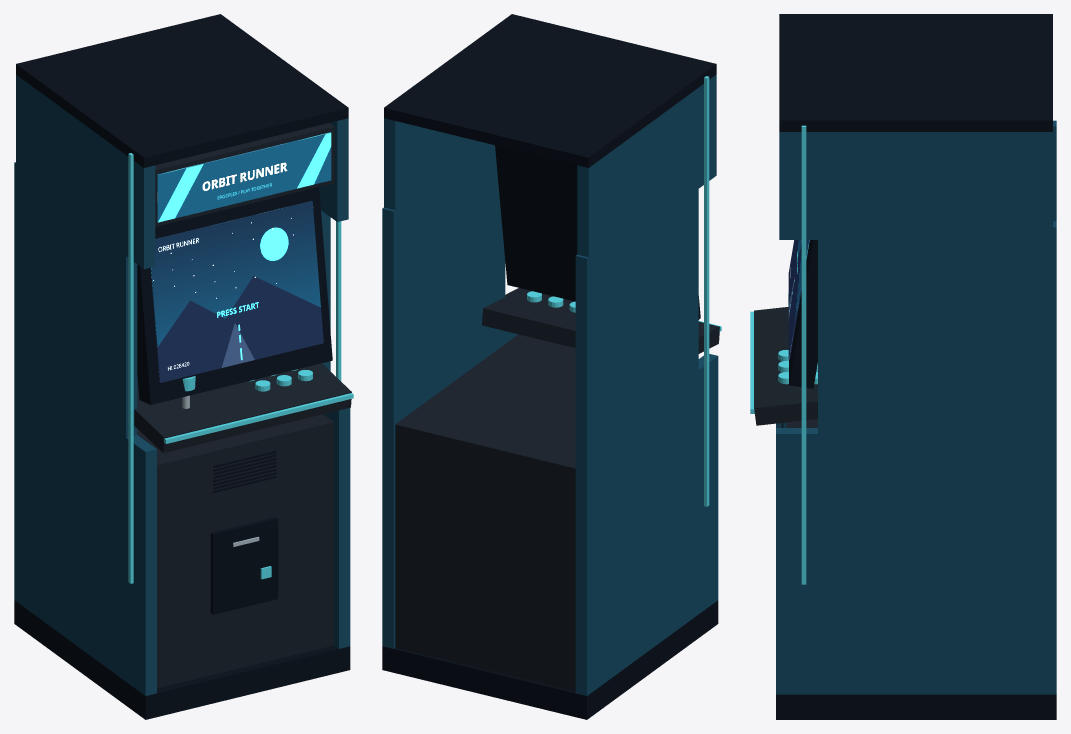
Rendered from arcade-orbit-runner.glb.
3 renders of one model, left to right at view 1: azimuth 30°, elevation 25°; view 2: azimuth 150°, elevation 25°; view 3: azimuth 270°, elevation 25°, orthographic. The views are drawn at different scales.
Visible parts, largest first — view 1: Lower side panel (×2), Lower chassis, Top cap, Tilted game screen, Monitor side panel (×2), Marquee side panel (×2), Monitor housing, Grounded cabinet base, Control deck, Lit marquee, Coin door, Side stripe (×2) (+2 smaller); view 2: Lower chassis, Monitor side panel (×2), Lower side panel (×2), Top cap, Marquee side panel (×2), Monitor housing, Grounded cabinet base, Control deck, Side stripe; view 3: Lower side panel, Monitor side panel, Top cap, Marquee side panel, Grounded cabinet base, Control deck, Side stripe, Monitor housing, Tilted game screen.
Part boxes in pixels (x1,y1,x2,y2): Lower side panel (×2): (14, 356, 350, 695); Lower chassis: (137, 376, 333, 688); Top cap: (16, 14, 348, 167); Tilted game screen: (150, 201, 323, 382); Monitor side panel (×2): (14, 162, 330, 437); Marquee side panel (×2): (16, 75, 348, 269); Monitor housing: (137, 187, 332, 404); Grounded cabinet base: (14, 600, 350, 719); Control deck: (134, 363, 351, 453); Lit marquee: (157, 132, 331, 222); Coin door: (210, 517, 278, 614); Side stripe (×2): (128, 153, 341, 583); Lower chassis: (395, 334, 575, 691); Monitor side panel (×2): (382, 149, 698, 451); Lower side panel (×2): (382, 329, 718, 695); Top cap: (384, 14, 716, 167); Marquee side panel (×2): (384, 74, 716, 266); Monitor housing: (495, 145, 700, 319); Grounded cabinet base: (382, 600, 718, 719); Control deck: (482, 288, 719, 353); Side stripe: (704, 76, 709, 506); Lower side panel: (776, 428, 1056, 694); Monitor side panel: (818, 221, 1056, 433); Top cap: (779, 14, 1052, 131); Marquee side panel: (779, 132, 1052, 239); Grounded cabinet base: (776, 694, 1056, 719); Control deck: (754, 307, 817, 425); Side stripe: (801, 125, 806, 584); Monitor housing: (789, 240, 817, 388); Tilted game screen: (788, 240, 809, 359).
Size of the model in its own units: 0.74 by 1.88 by 0.8725.
Materials: 7 (2 with a texture image).
